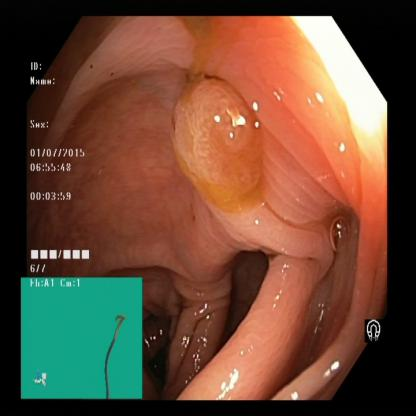Labels: (25, 59, 101, 275), (20, 276, 144, 400), (359, 303, 389, 346)
Polyps: (164, 68, 272, 209)
